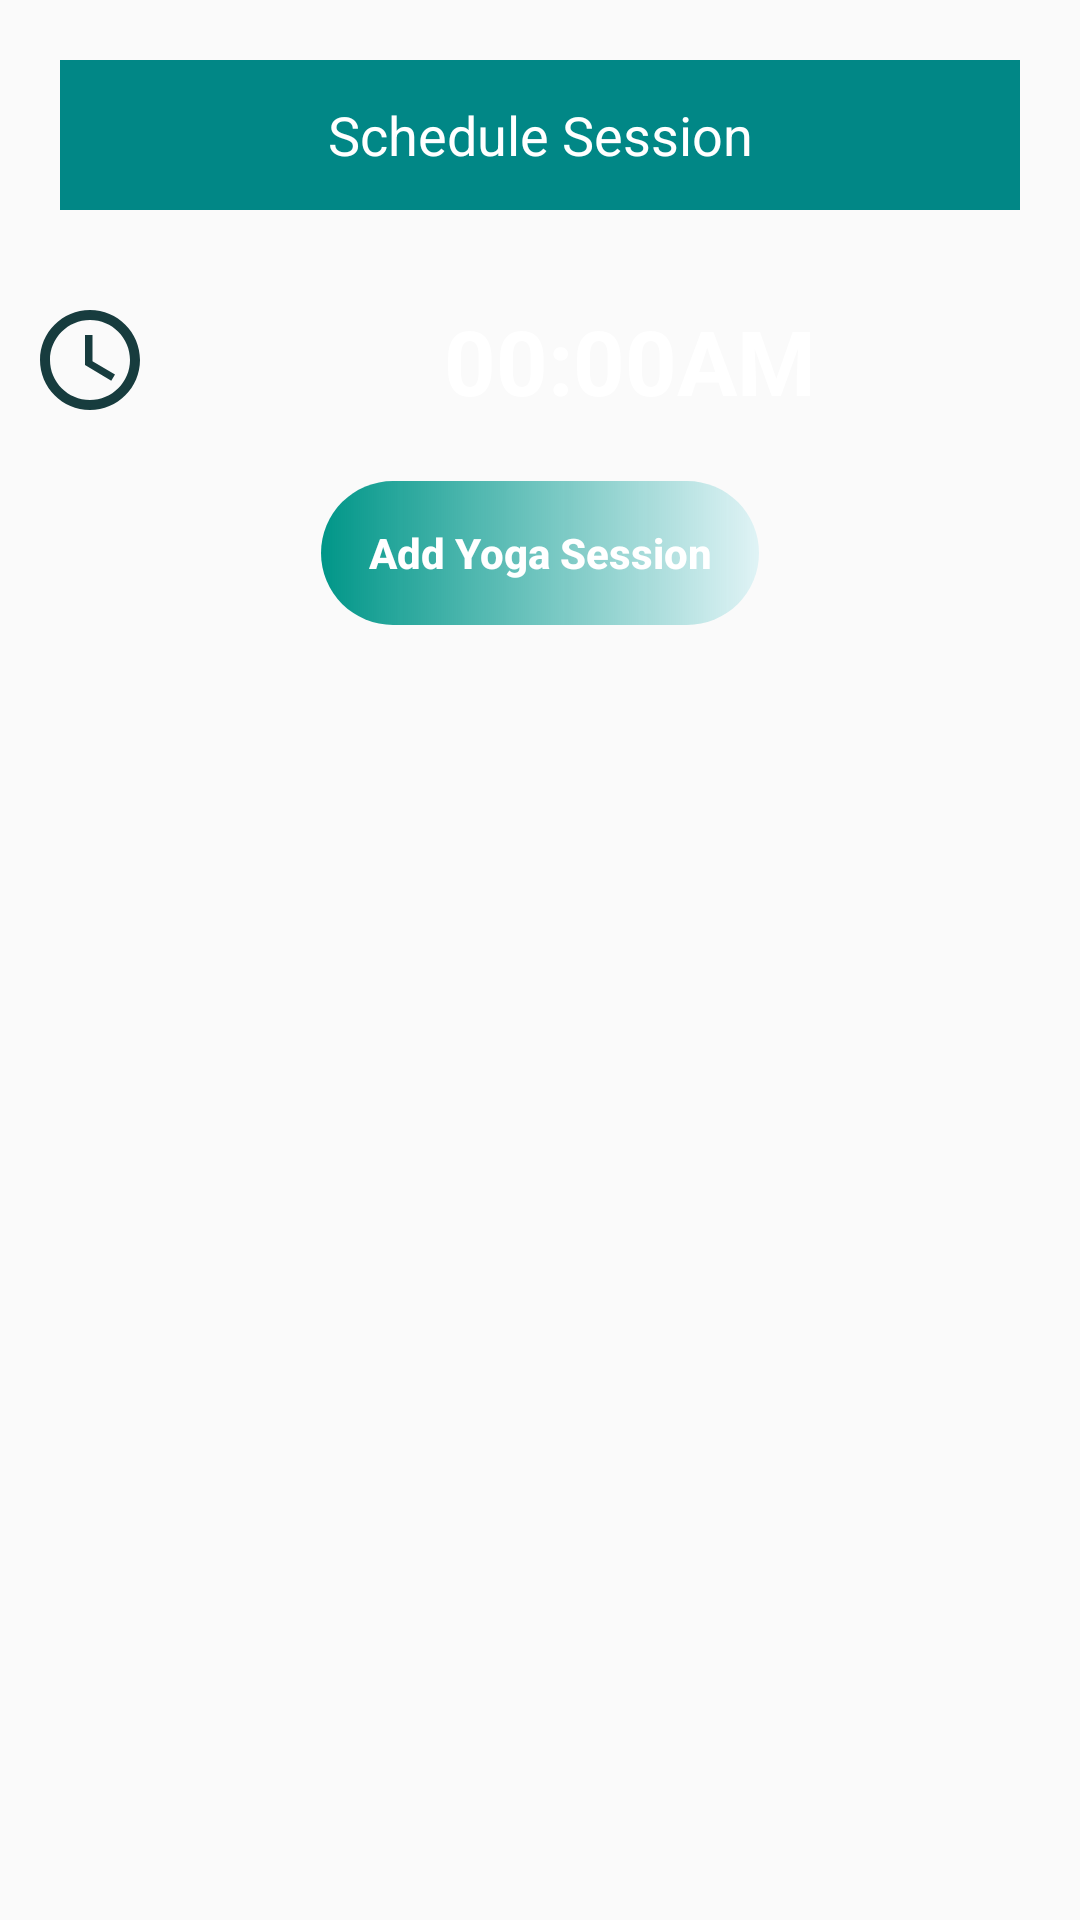

Locate icon controls on the screen. Image size 1080px×1920px, boxes as box(x1, y1, x2, y2).
time: box(40, 310, 140, 410)
